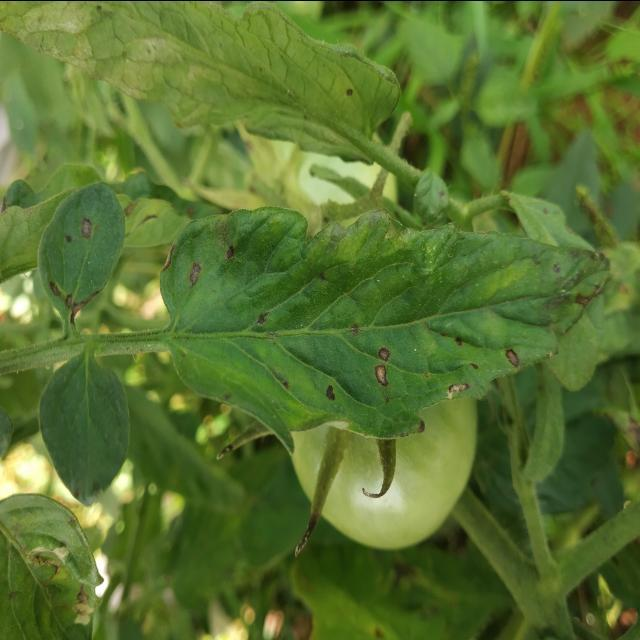Tomato mosaic virus leaf: (159, 205, 614, 441), (34, 176, 130, 330)
